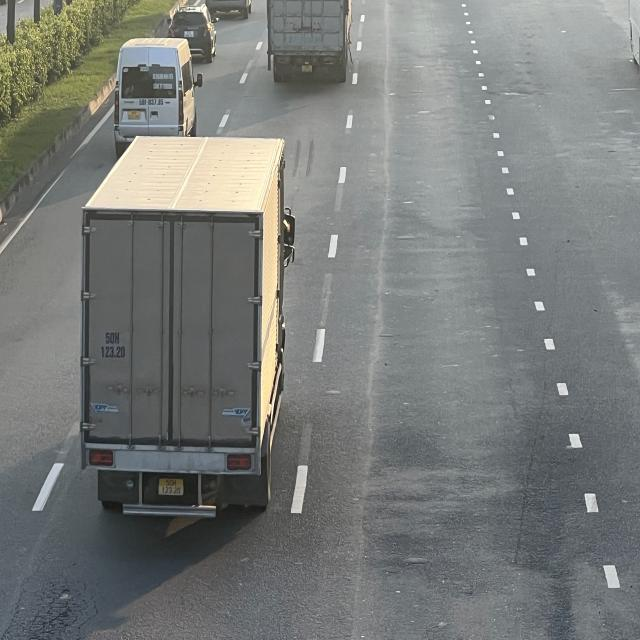car: (167, 5, 219, 63)
truck: (79, 135, 295, 519)
van: (116, 40, 202, 148)
